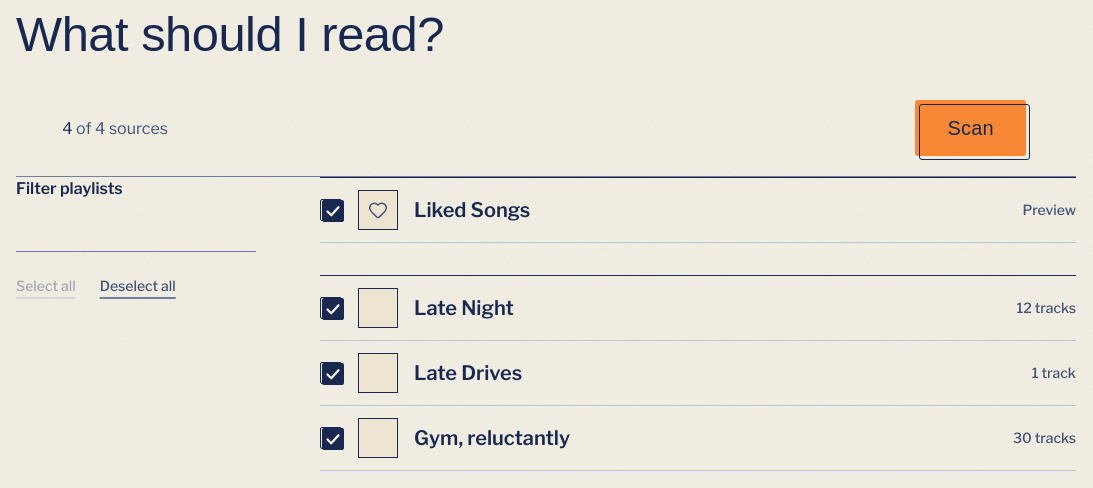
Scenario: /scope Scan › stays put and says so when the save fails
Click the button "Scan" at (971, 128), box [916,100,1026,156]
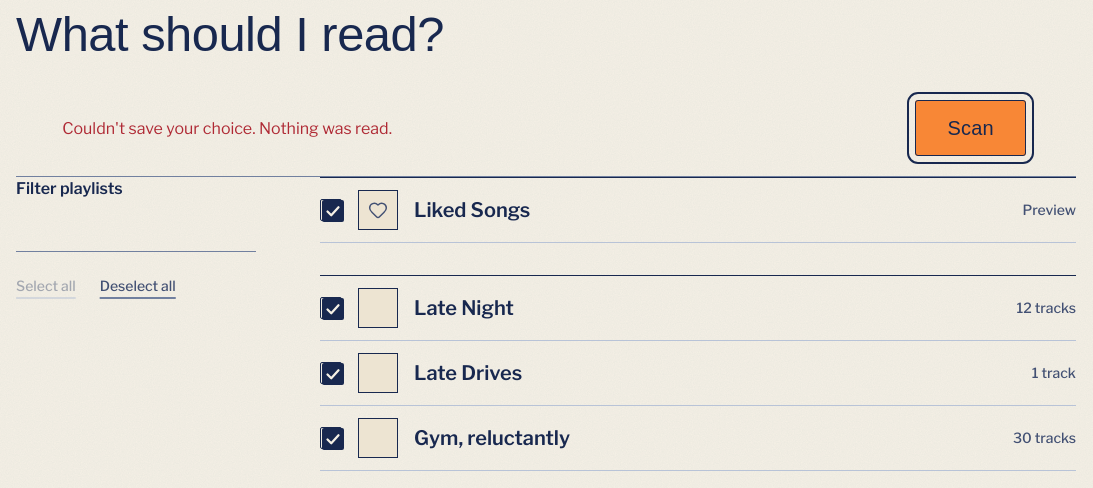
Expected: the message reads "Couldn't save your choice. Nothing was read.", [62,119,392,138]
